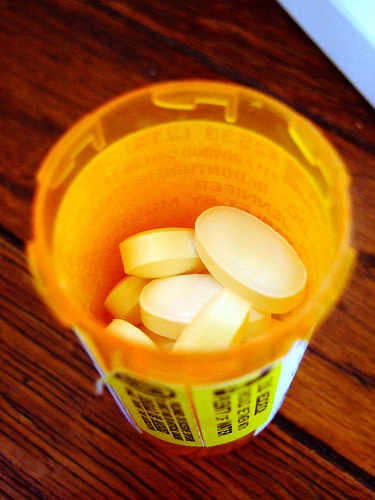pill bottle: (33, 81, 353, 459)
